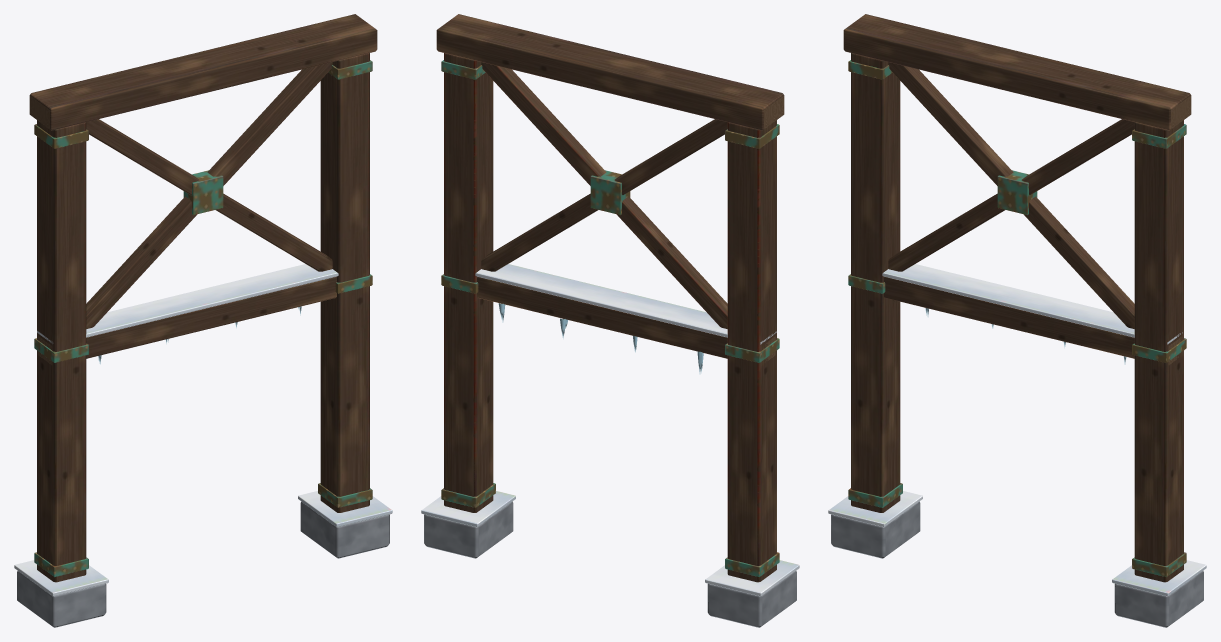
File: SM_Tripo_FrostPlankRoadPost.glb
The picture shows the model from 3 angles, left to right: view 1: azimuth 30°, elevation 25°; view 2: azimuth 150°, elevation 25°; view 3: azimuth 330°, elevation 25°; orthographic projection.
Parts seen in each view (by area): view 1: SM_Tripo_FrostPlankRoadPost_LOD0; view 2: SM_Tripo_FrostPlankRoadPost_LOD0; view 3: SM_Tripo_FrostPlankRoadPost_LOD0.
Boxes of the visible parts, <box> form: SM_Tripo_FrostPlankRoadPost_LOD0: <box>14,14,392,627</box>; SM_Tripo_FrostPlankRoadPost_LOD0: <box>421,14,799,627</box>; SM_Tripo_FrostPlankRoadPost_LOD0: <box>828,14,1206,627</box>.
Size of the model in its own units: 6.24 by 9 by 1.24.
1 material, 1 textured.
